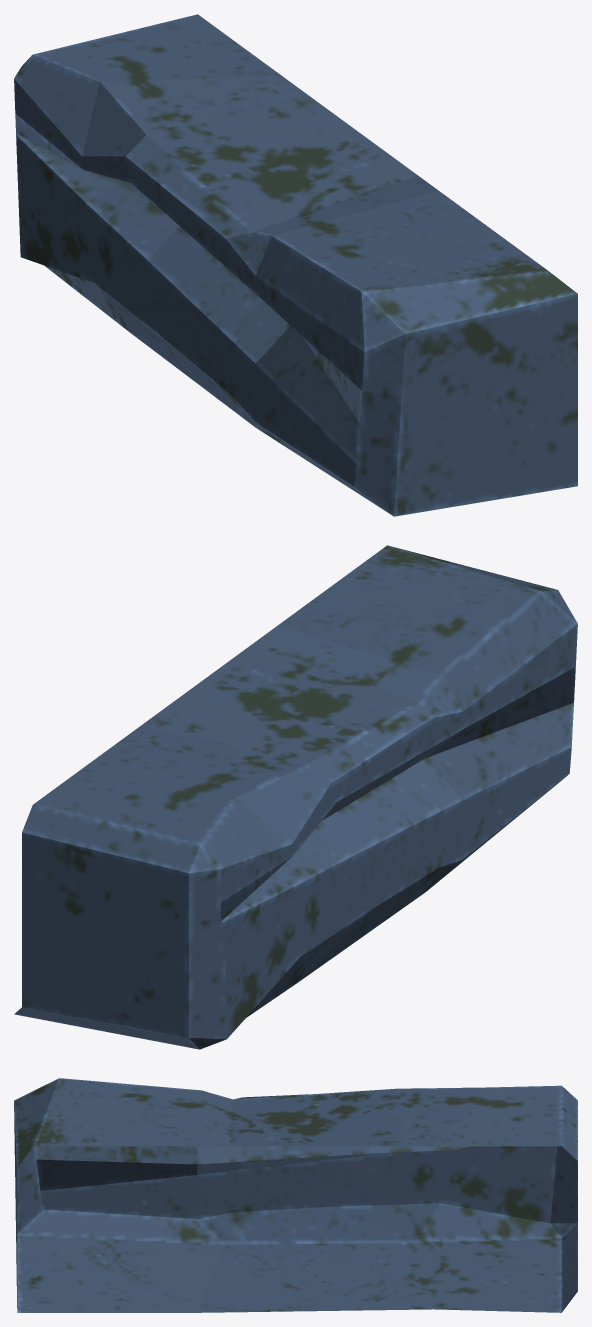
The model's file is Cegla_2.fbx.
3 views of the same model, one above another, from view 1: azimuth 30°, elevation 25°; view 2: azimuth 150°, elevation 25°; view 3: azimuth 270°, elevation 25° (orthographic). The views are drawn at different scales.
Parts seen in each view (by area): view 1: Cegla_2; view 2: Cegla_2; view 3: Cegla_2.
Part boxes in pixels (x1,y1,x2,y2): Cegla_2: (14, 14, 577, 516); Cegla_2: (14, 545, 577, 1049); Cegla_2: (14, 1078, 577, 1312).
Size of the model in its own units: 204 by 207 by 641.
